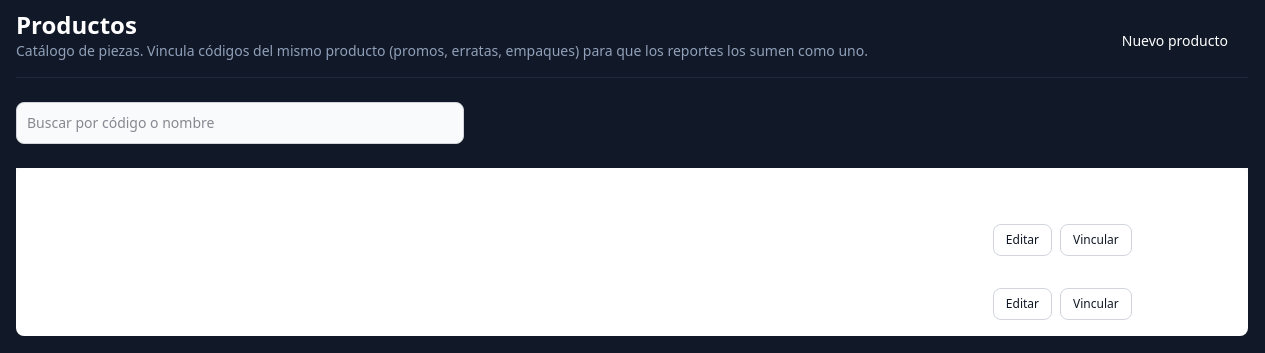
Test: ProductsPage › filters the list by code or name
Type "horch" into the field with placeholder "Buscar por código o nombre" at (240, 123), box [16,102,464,144]
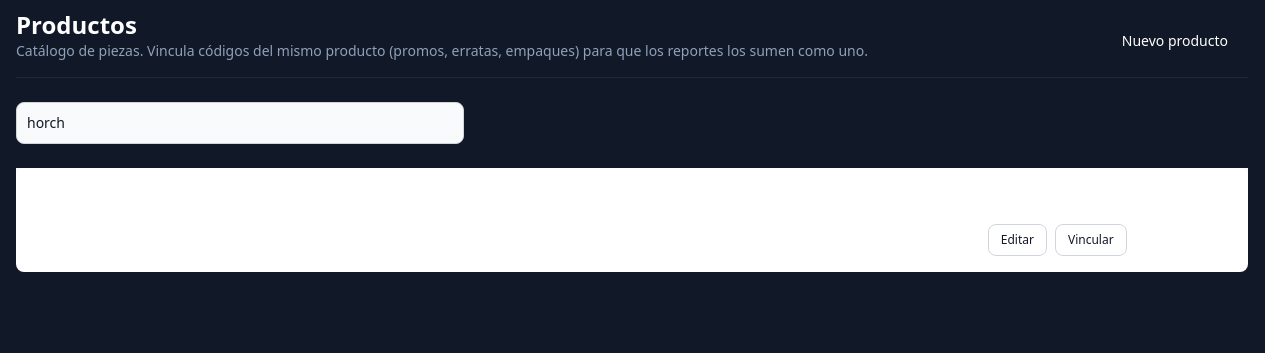
Expected: the text "Horchata" is shown, [163,208,328,272]
Now the text "Frijol negro" is gone
